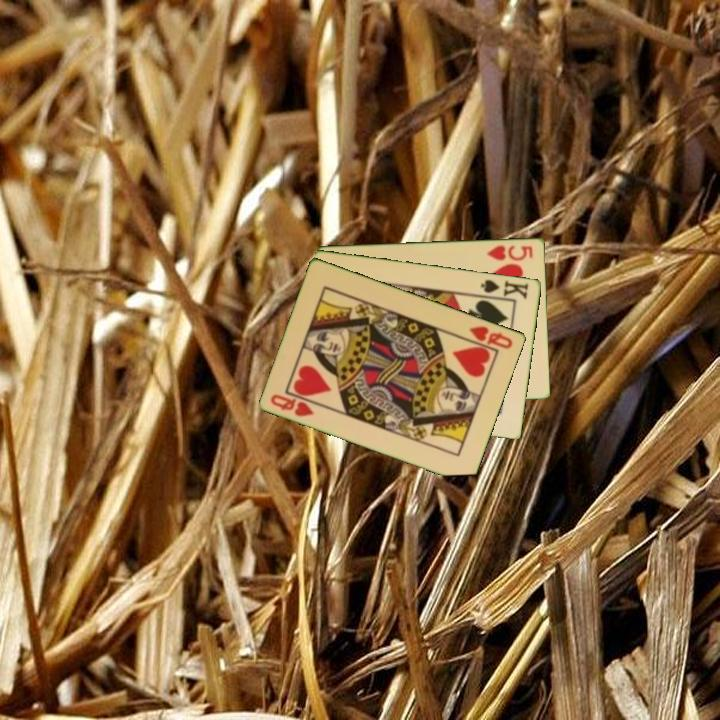5h: (483, 242, 536, 263)
Ks: (477, 275, 532, 303)
Qh: (466, 322, 516, 351), (267, 390, 317, 419)
